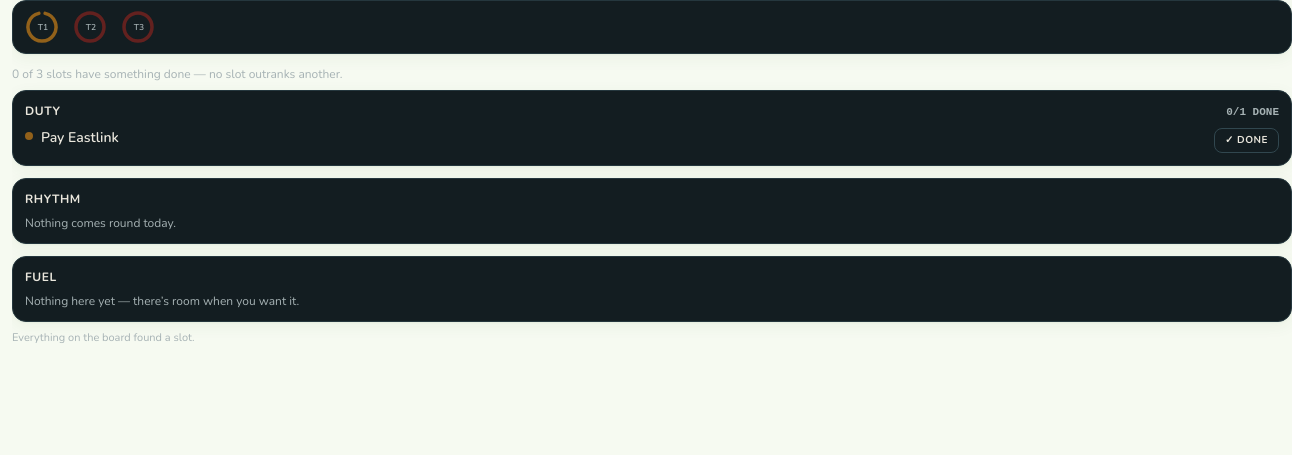
the mounted path — it shows in place, and five read as five › a refusal that arrives on a 2xx does not paint the row green
This screenshot has width=1292, height=455.
Click the button with test id "board-complete" at [1246, 140], box x1=1214 y1=128 x2=1279 y2=153
Wait 6000 ms
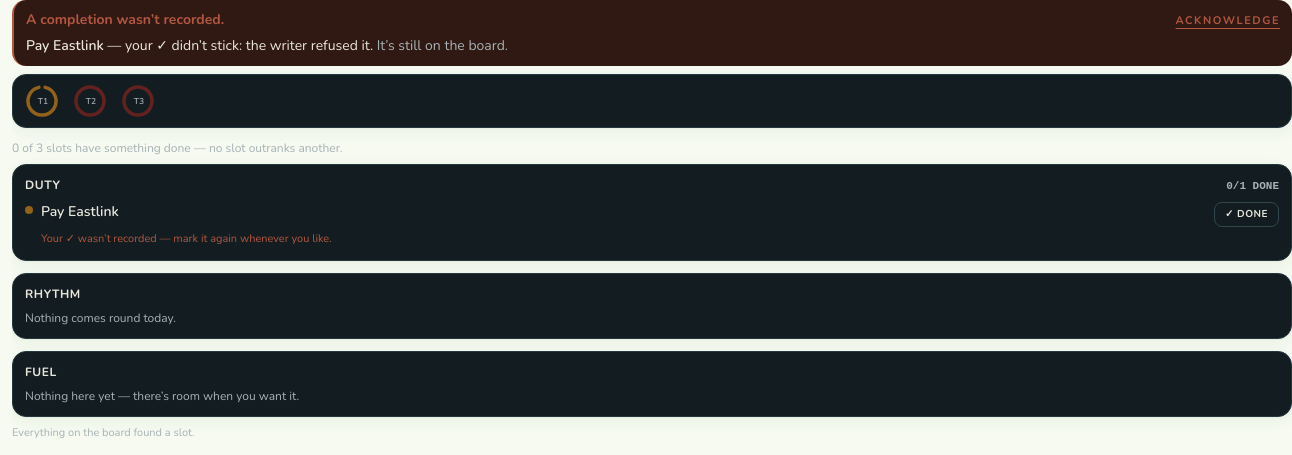
expect the message with test id "board-unrecorded" shows "the writer refused it": met, box x1=239 y1=36 x2=370 y2=55
